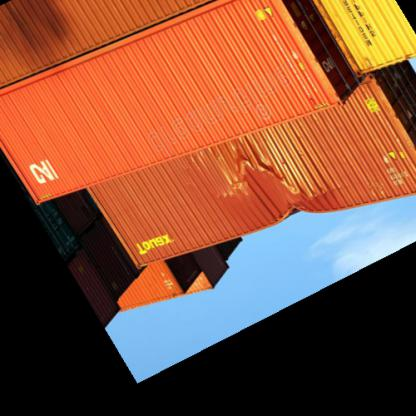Damage: (233, 157, 342, 227)
